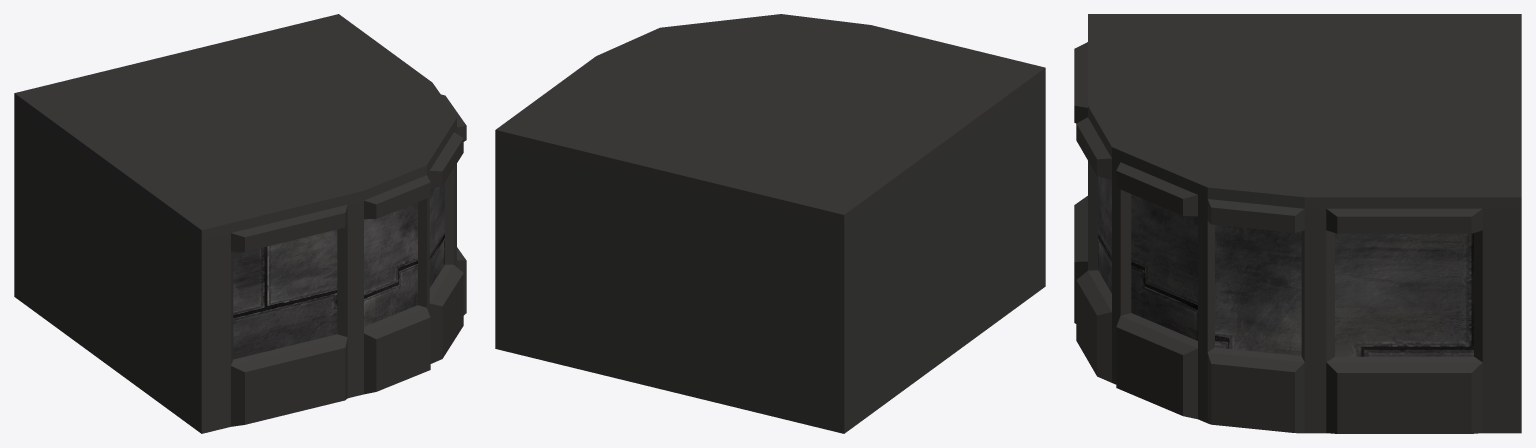
File: SM_Bld_Section_Corner_03.fbx
3 renders of one model, left to right at view 1: azimuth 30°, elevation 25°; view 2: azimuth 150°, elevation 25°; view 3: azimuth 270°, elevation 25°, orthographic. The views are drawn at different scales.
Parts seen in each view (by area): view 1: SM_Bld_Section_Corner_03; view 2: SM_Bld_Section_Corner_03; view 3: SM_Bld_Section_Corner_03.
Part boxes in pixels (left/top/right/bottom): SM_Bld_Section_Corner_03: left=14, top=14, right=466, bottom=433; SM_Bld_Section_Corner_03: left=495, top=14, right=1045, bottom=433; SM_Bld_Section_Corner_03: left=1074, top=14, right=1521, bottom=433.
Size of the model in its own units: 516 by 300 by 516.
Materials: 1 (1 with a texture image).
